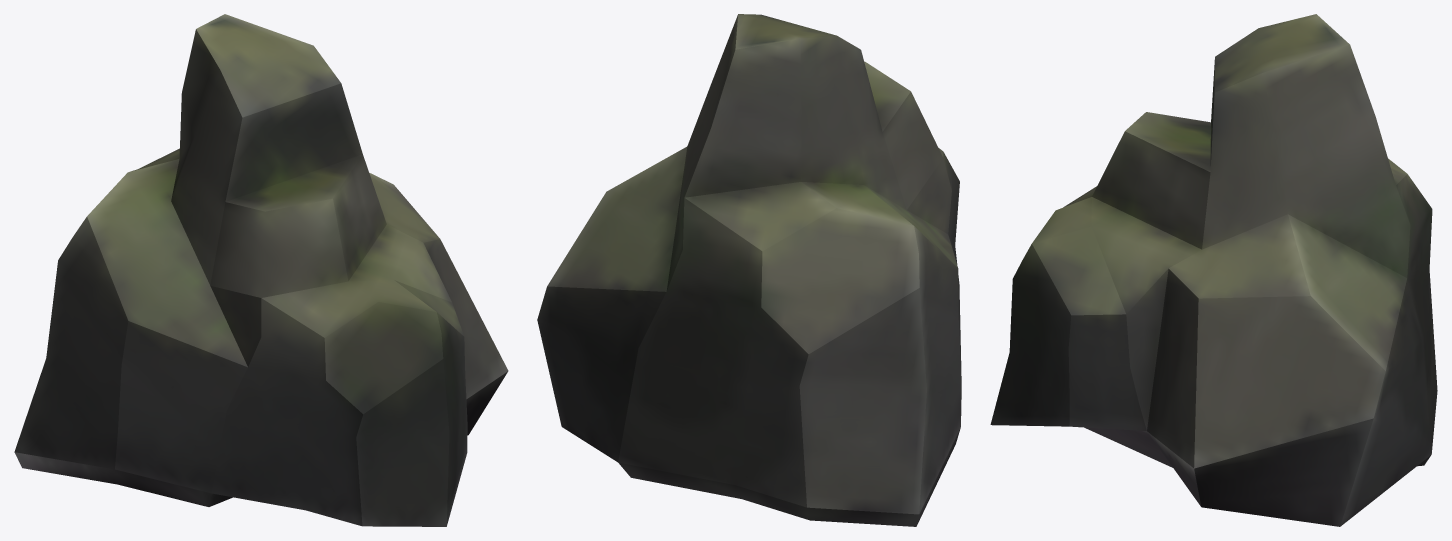
The model's file is rock_2.glb.
The picture shows the model from 3 angles, left to right: view 1: azimuth 30°, elevation 25°; view 2: azimuth 150°, elevation 25°; view 3: azimuth 270°, elevation 25°; orthographic projection. The views are drawn at different scales.
Parts seen in each view (by area): view 1: Rock_2; view 2: Rock_2; view 3: Rock_2.
Part boxes in pixels (<box>): Rock_2: <box>14,14,508,526</box>; Rock_2: <box>537,14,961,526</box>; Rock_2: <box>990,14,1437,526</box>.
Bounding box in the file's own units: 1.05 × 1.12 × 1.08.
Materials: 1 (1 with a texture image).
